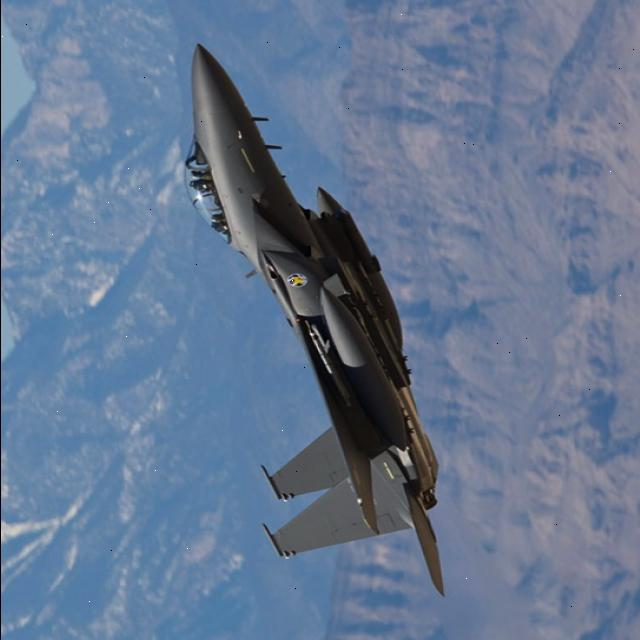F15: (158, 32, 468, 608)
